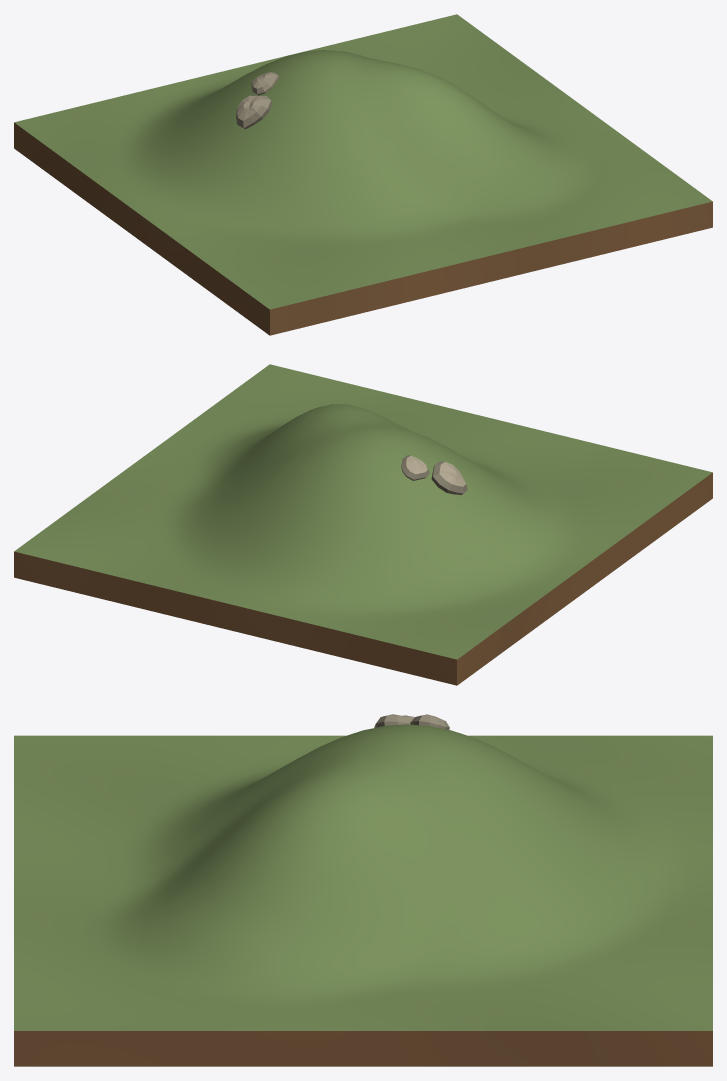
Rendered from Environment_Hills_RoundHill16m_001.glb.
3 views of the same model, one above another, from view 1: azimuth 30°, elevation 25°; view 2: azimuth 150°, elevation 25°; view 3: azimuth 270°, elevation 25° (orthographic). The views are drawn at different scales.
Visible parts, largest first — view 1: HL_RoundHill16m_Body; view 2: HL_RoundHill16m_Body; view 3: HL_RoundHill16m_Body.
Boxes of the visible parts, x1,y1,x2,y2 form: HL_RoundHill16m_Body: [14, 14, 712, 335]; HL_RoundHill16m_Body: [14, 364, 712, 685]; HL_RoundHill16m_Body: [14, 714, 712, 1066].
Bounding box in the file's own units: 16 × 4.19 × 16.
